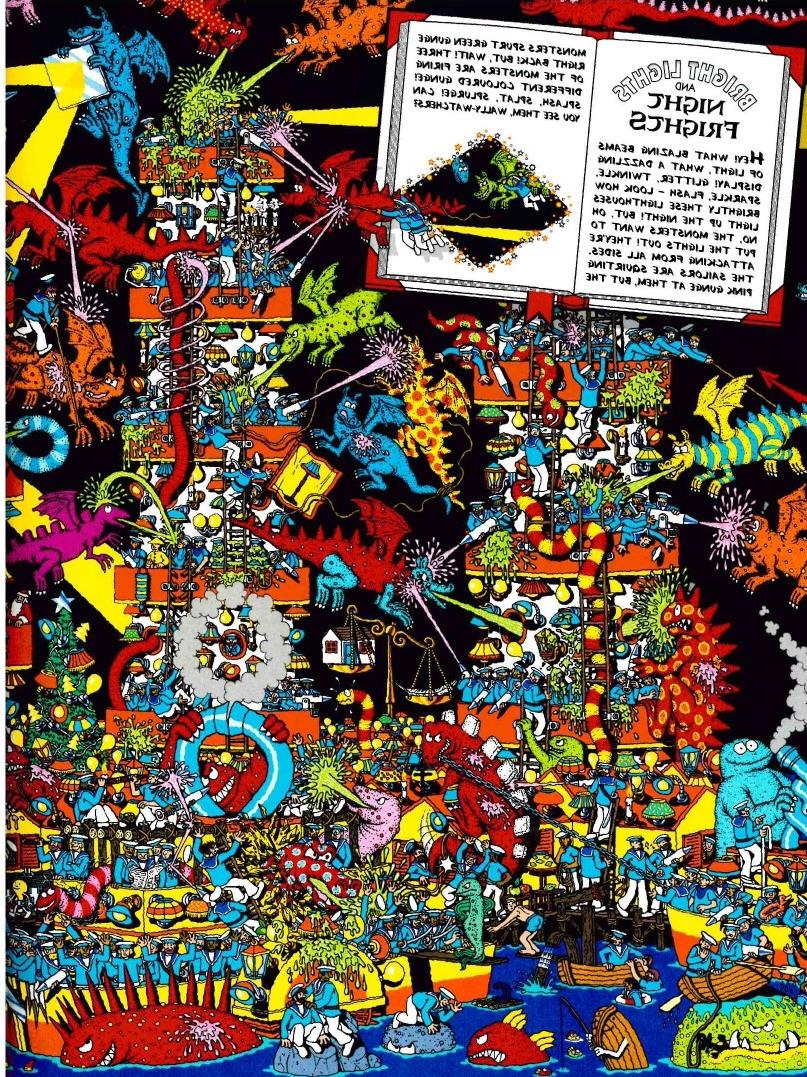waldos: (279, 672, 292, 693)
